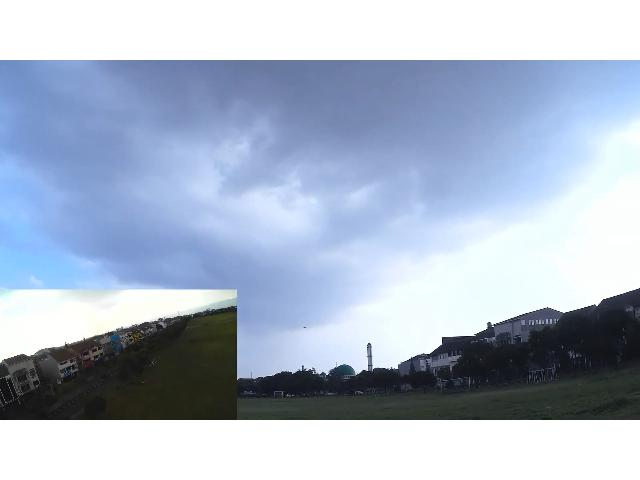Anti-Drone: (296, 325, 308, 332)
